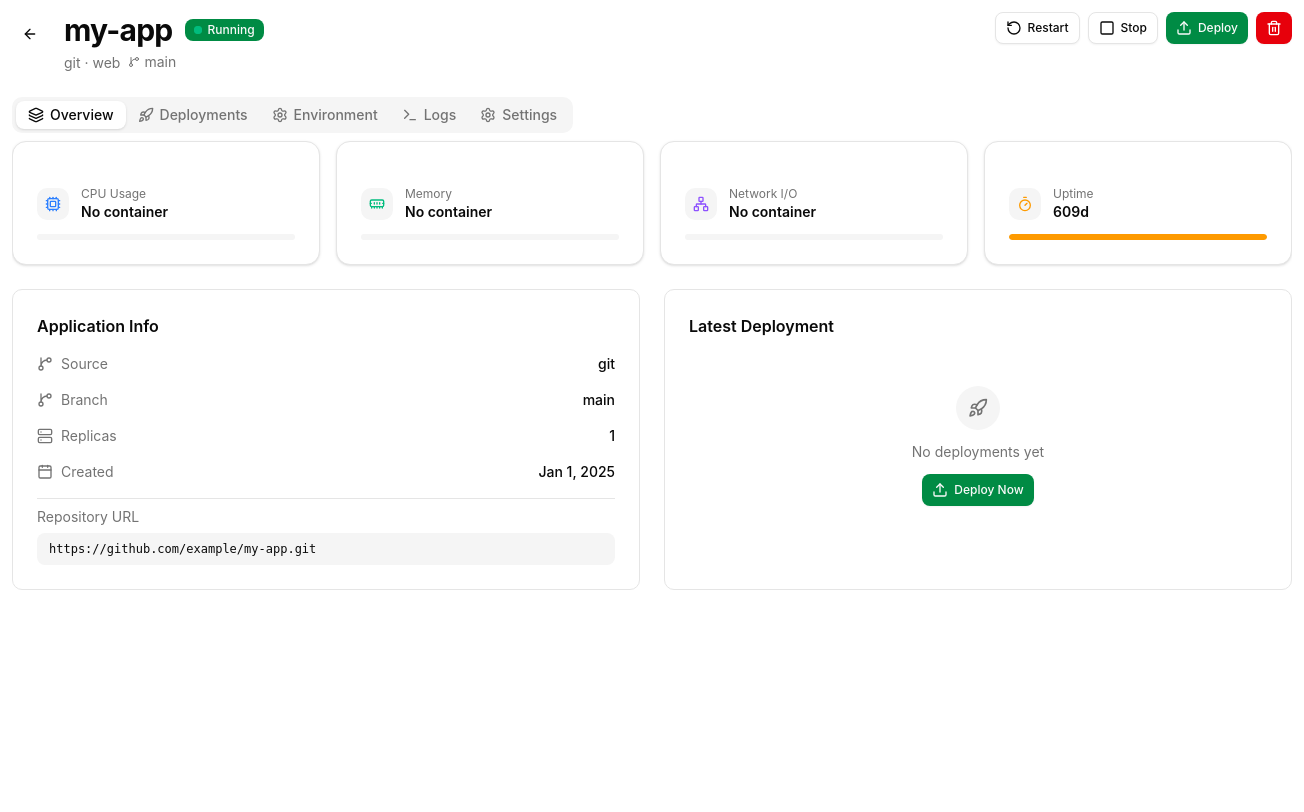
Scenario: AppDetail page › toggles secret value visibility when the Reveal button is clicked
The width and height of the screenshot is (1304, 812).
Click the tab "Environment": (325, 115) 260,101 -> 390,129
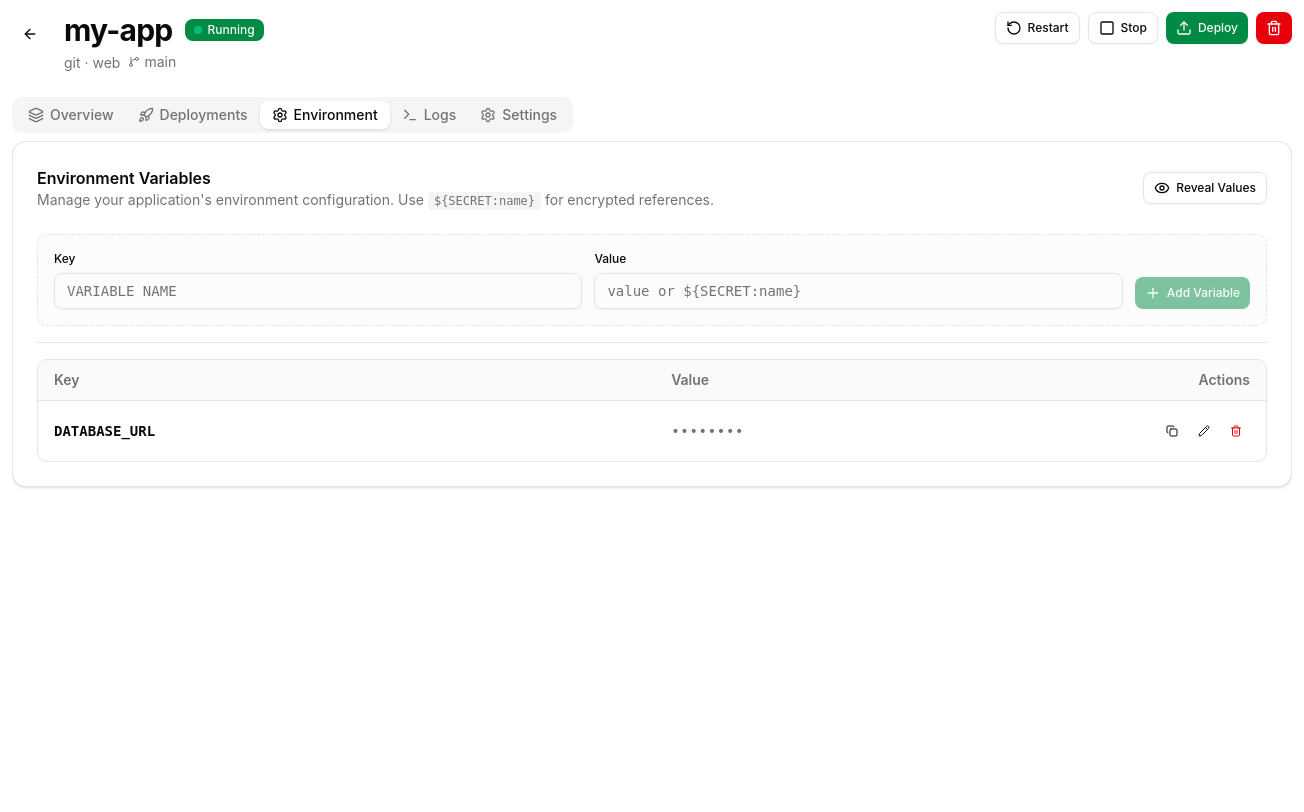
Check: the text "${SECRET:db_url}" is not shown
Click the button "Reveal Values": (1205, 188) 1143,172 -> 1267,204
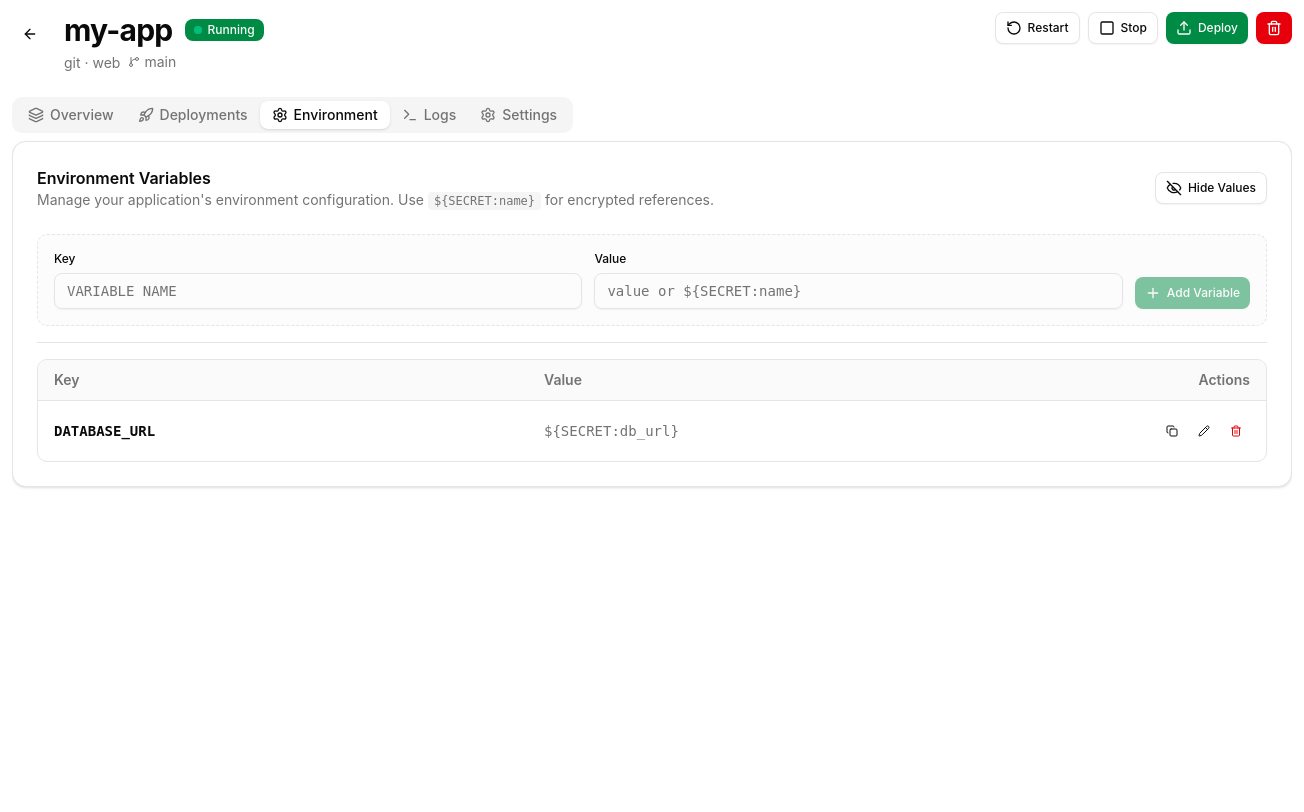
Check: the text "${SECRET:db_url}" is shown, box 528,400 -> 1142,460
